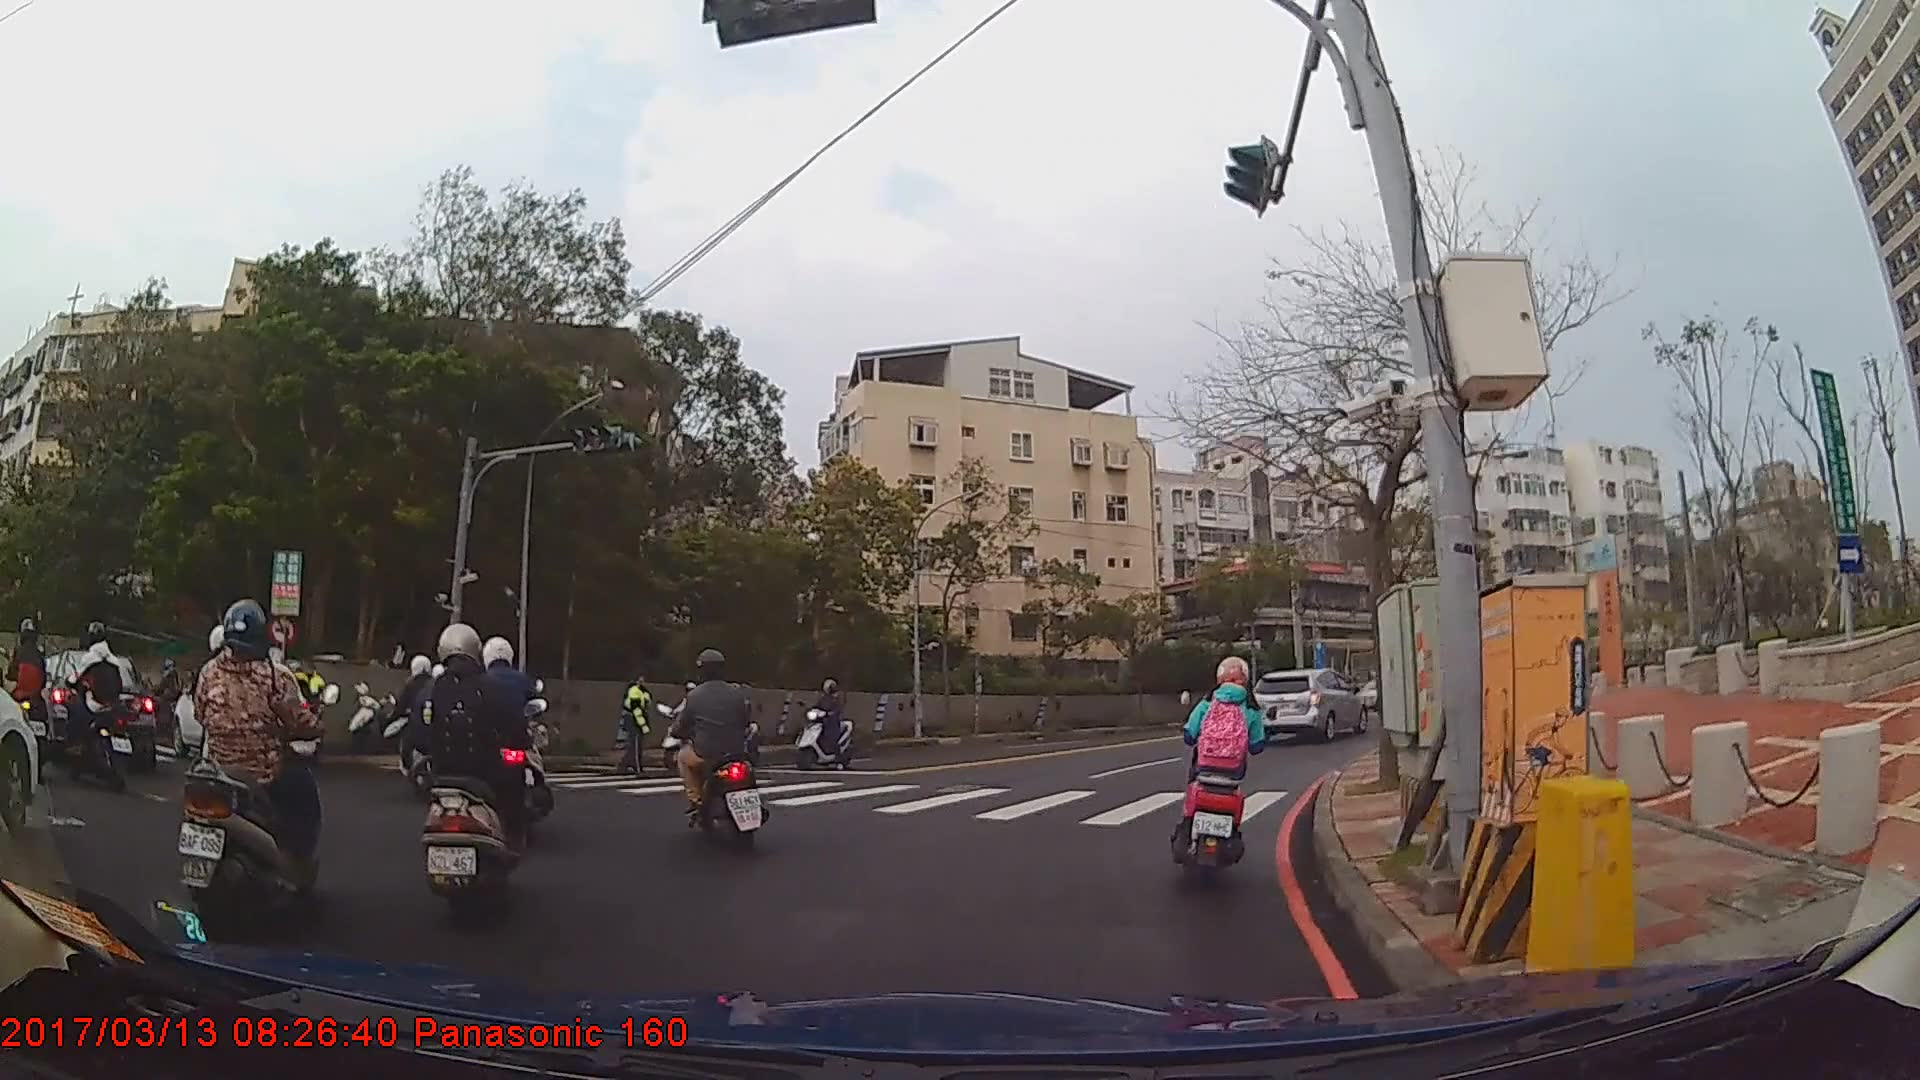pedestrian: (614, 671, 655, 778)
rider: (177, 599, 328, 932), (410, 619, 531, 909), (1179, 655, 1273, 872), (671, 648, 766, 852), (469, 633, 555, 834), (377, 655, 456, 803), (62, 620, 125, 783), (4, 619, 53, 777), (795, 679, 854, 769)
vehicle: (43, 648, 154, 767), (1243, 665, 1367, 745)
